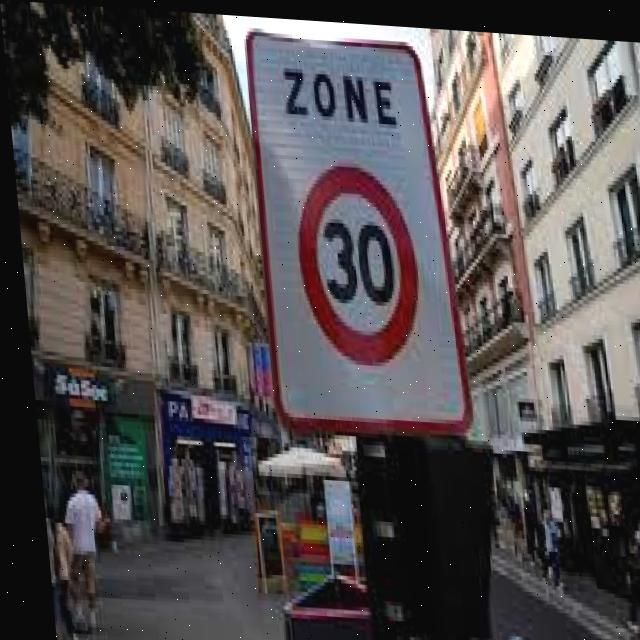Speed limit 30: (290, 153, 424, 369)
